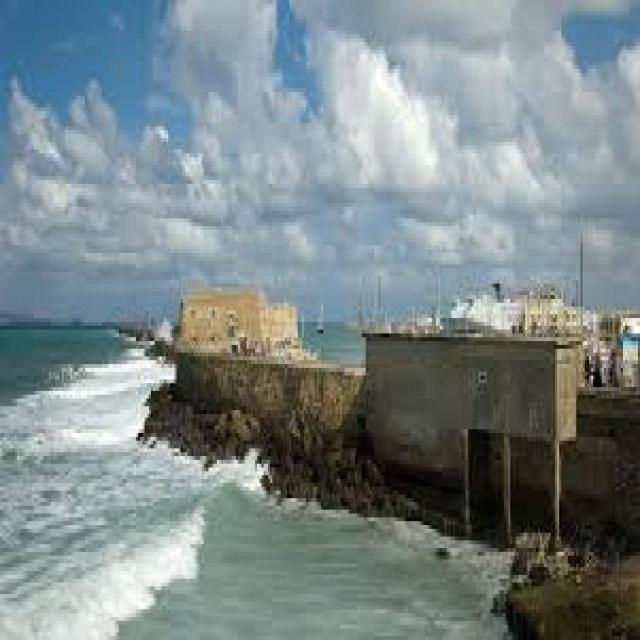Kules: (178, 288, 306, 359)
